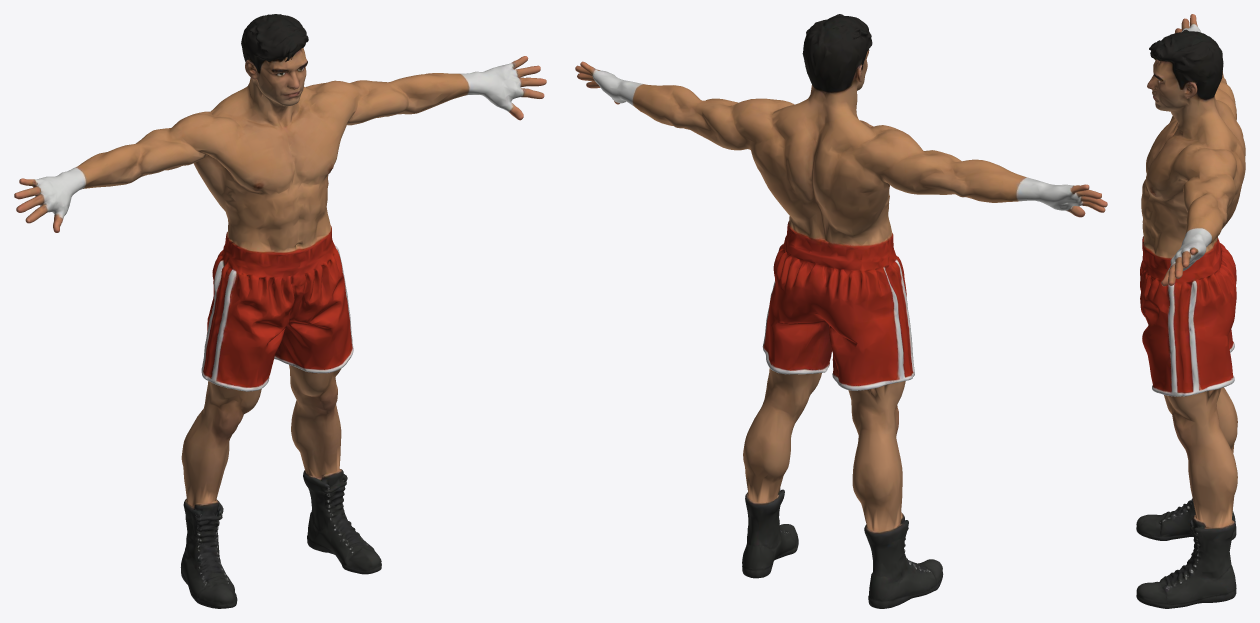
The model's file is boxer.glb.
The picture shows the model from 3 angles, left to right: view 1: azimuth 30°, elevation 25°; view 2: azimuth 150°, elevation 25°; view 3: azimuth 270°, elevation 25°; orthographic projection. The views are drawn at different scales.
Visible parts, largest first — view 1: tripo_node_94bed4d9-7eef-4a00-a25e-bf9d87cba121; view 2: tripo_node_94bed4d9-7eef-4a00-a25e-bf9d87cba121; view 3: tripo_node_94bed4d9-7eef-4a00-a25e-bf9d87cba121.
Boxes of the visible parts, x1=… form: tripo_node_94bed4d9-7eef-4a00-a25e-bf9d87cba121: x1=14, y1=14, x2=546, y2=608; tripo_node_94bed4d9-7eef-4a00-a25e-bf9d87cba121: x1=575, y1=14, x2=1107, y2=608; tripo_node_94bed4d9-7eef-4a00-a25e-bf9d87cba121: x1=1136, y1=14, x2=1245, y2=608.
Size of the model in its own units: 1.79 by 1.8 by 0.3346.
1 material, 1 textured.
